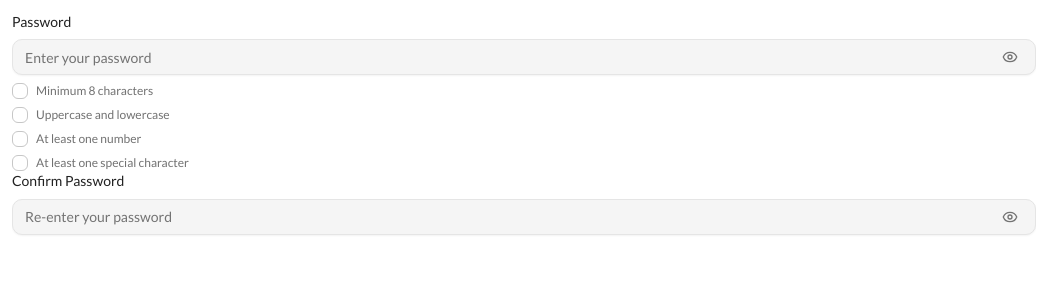
Scenario: PasswordFields Component › shows 'Passwords match' when confirm matches
Type "Abc1234!" into the password field labelled "Password" at (524, 57), box [12,39,1036,75]
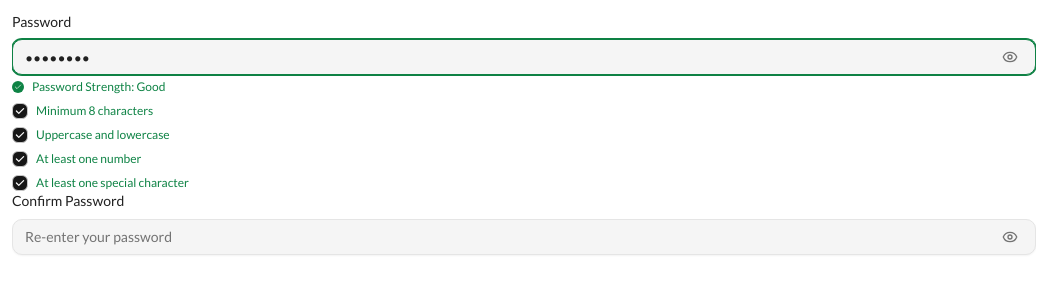
Type "Abc1234!" into the password field labelled "Confirm Password" at (524, 236), box [12,218,1036,254]
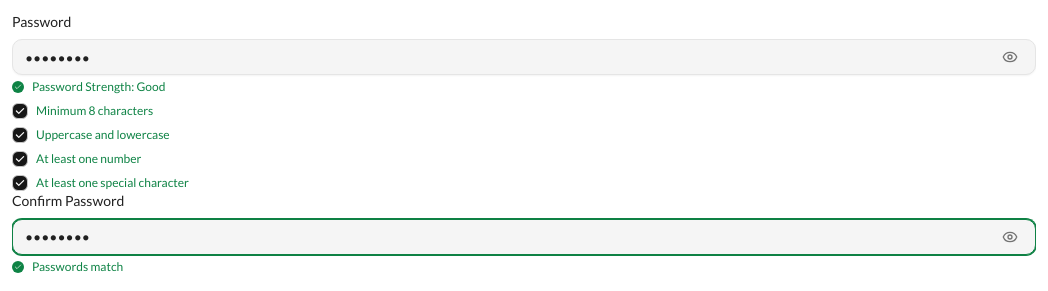
Check: the text "Passwords match" is shown, box [32,258,123,274]
